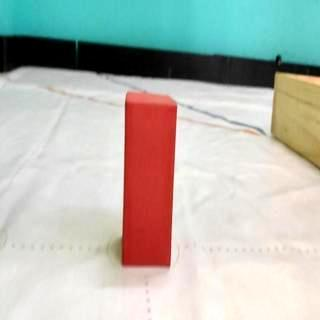redbox: (124, 90, 176, 268)
